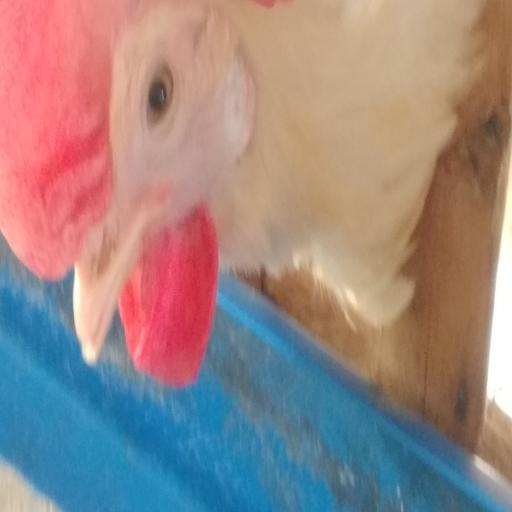healthy: (30, 0, 252, 367)
